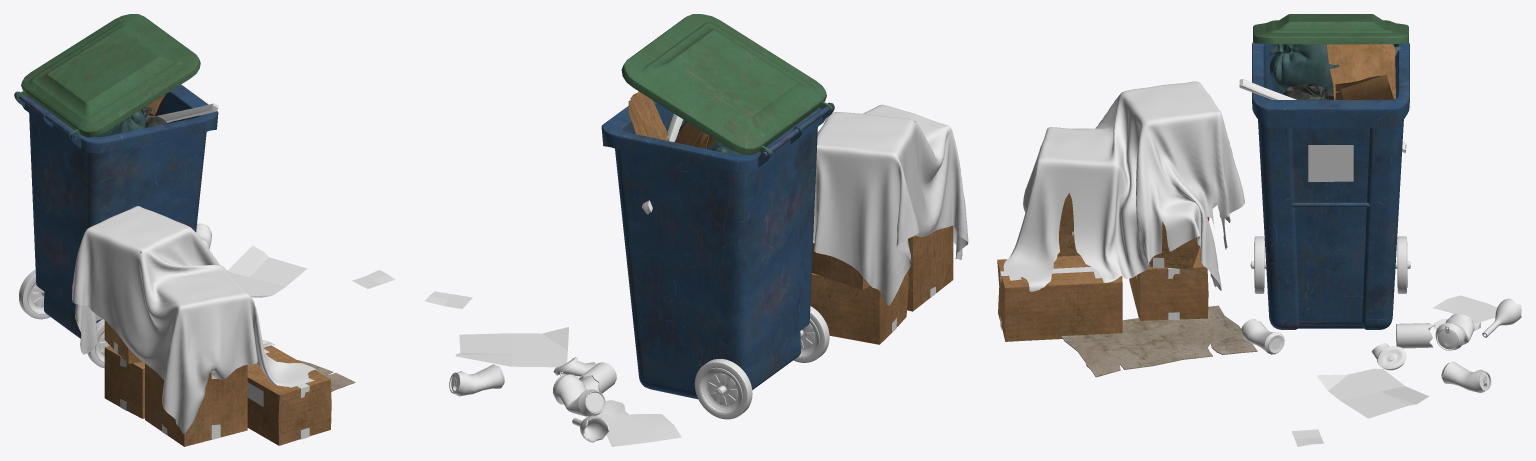
The model's file is TrashCanA.fbx.
3 views of the same model, side by side, from view 1: azimuth 30°, elevation 25°; view 2: azimuth 150°, elevation 25°; view 3: azimuth 270°, elevation 25° (orthographic). The views are drawn at different scales.
Parts seen in each view (by area): view 1: TrashCanA; view 2: TrashCanA; view 3: TrashCanA.
Boxes of the visible parts, x1,y1,x2,y2 form: TrashCanA: (14,14,395,446); TrashCanA: (425,14,968,446); TrashCanA: (997,14,1521,446).
Bounding box in the file's own units: 1.82 × 1.34 × 2.1.
